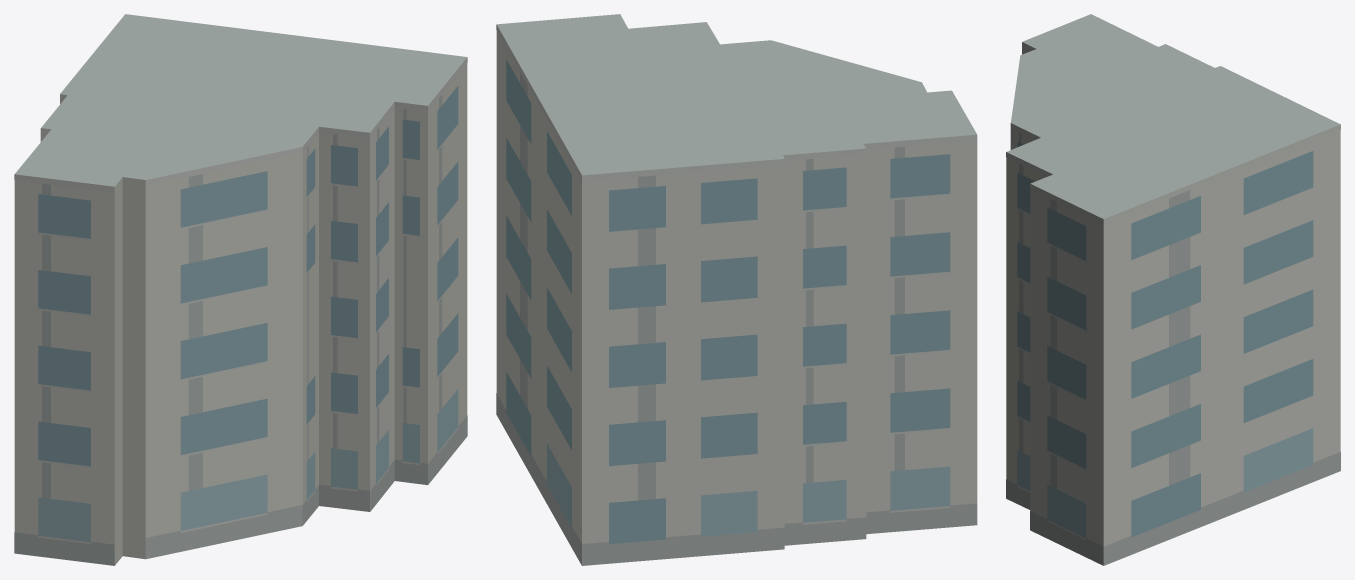
The model's file is survey-upis-32497976.glb.
3 renders of one model, left to right at view 1: azimuth 30°, elevation 25°; view 2: azimuth 150°, elevation 25°; view 3: azimuth 270°, elevation 25°, orthographic. The views are drawn at different scales.
Parts seen in each view (by area): view 1: survey-upis-32497976.tmp; view 2: survey-upis-32497976.tmp; view 3: survey-upis-32497976.tmp.
Boxes of the visible parts, box(x1,y1,x2,y2) form: survey-upis-32497976.tmp: box(14, 14, 467, 565); survey-upis-32497976.tmp: box(496, 14, 977, 565); survey-upis-32497976.tmp: box(1006, 14, 1340, 565).
Bounding box in the file's own units: 19.81 × 15.6 × 13.65.
